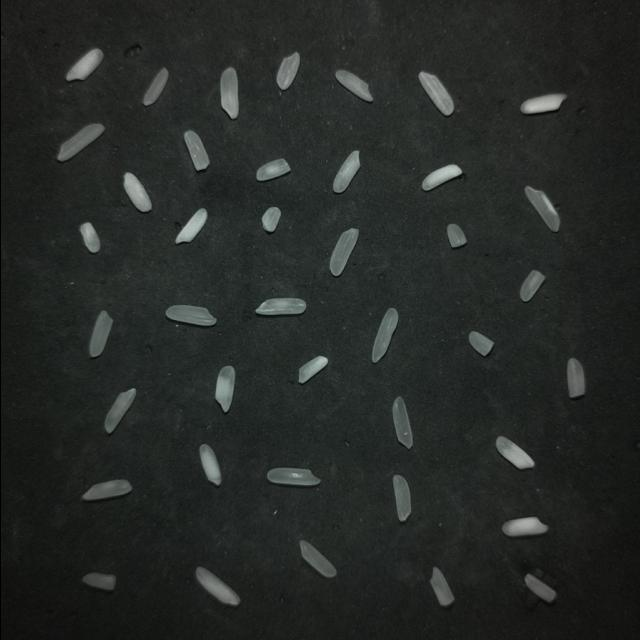broken: (183, 130, 208, 169), (429, 566, 453, 605), (276, 51, 299, 89), (524, 573, 555, 601), (519, 270, 544, 300), (256, 158, 290, 180), (566, 358, 584, 398), (81, 571, 115, 590), (468, 330, 493, 355), (261, 206, 280, 231), (446, 223, 465, 247)
chalky: (195, 566, 239, 605), (495, 436, 533, 468), (66, 48, 102, 80), (175, 208, 206, 243), (123, 171, 150, 211), (421, 164, 461, 190), (518, 94, 566, 115), (214, 365, 234, 411), (501, 516, 547, 535), (199, 443, 220, 484), (298, 355, 327, 383), (79, 221, 99, 252)
whole: (56, 123, 103, 160), (524, 186, 559, 231), (418, 71, 453, 115), (371, 307, 397, 362), (104, 388, 135, 432), (329, 228, 358, 275), (299, 540, 335, 576), (335, 69, 372, 101), (332, 150, 359, 192), (391, 396, 411, 448), (82, 479, 131, 500), (89, 310, 111, 356), (165, 305, 215, 325), (142, 67, 168, 105), (219, 67, 238, 118), (266, 467, 319, 484), (255, 297, 305, 314), (392, 474, 410, 520)
